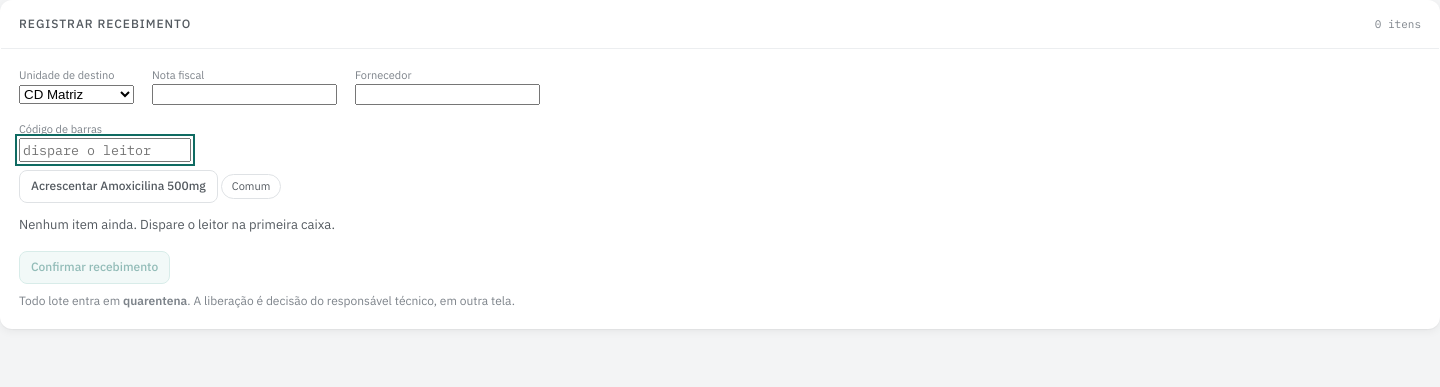
Test: AC-8 · o leitor de código de barras › bipar acrescenta o item, sem nenhum clique
The image size is (1440, 387).
Type "7891234000018" into the field named "Código de barras do produto" at {"x": 105, "y": 150}, box [19, 138, 191, 162]
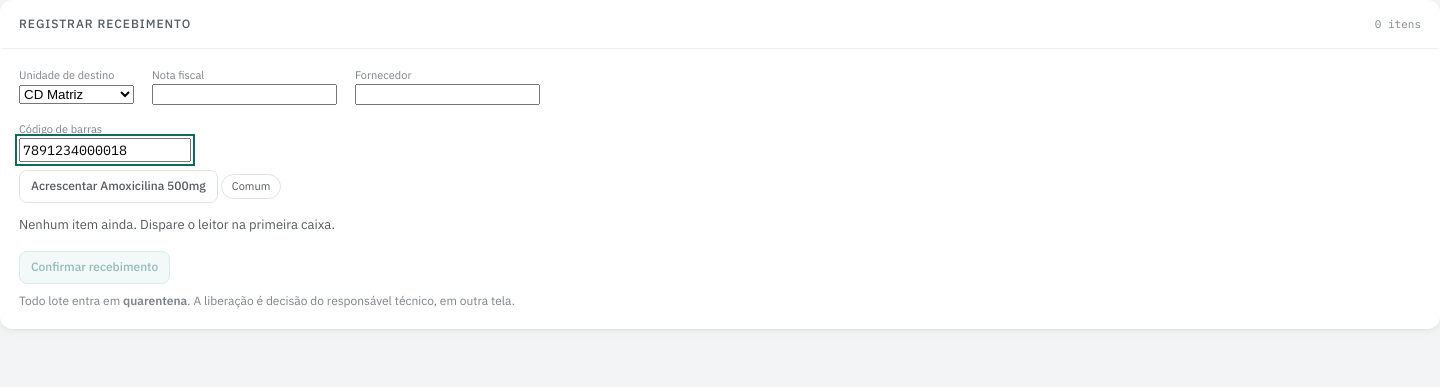
Press Enter in the field named "Código de barras do produto", box [19, 138, 191, 162]
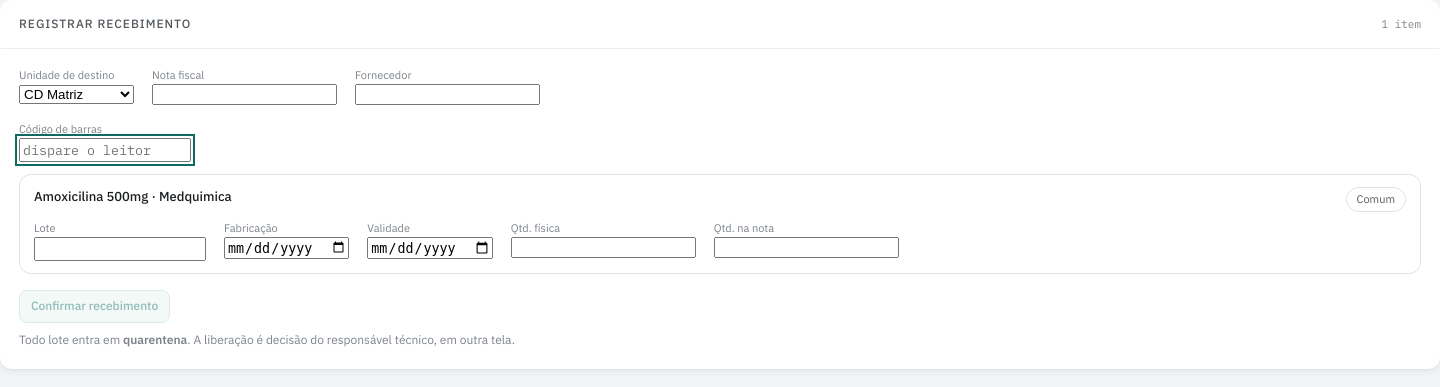
Expected: the text "Amoxicilina 500mg · Medquimica" is shown, [34, 187, 232, 208]
Expected: the field named "Número do lote" is shown, [34, 238, 206, 262]
